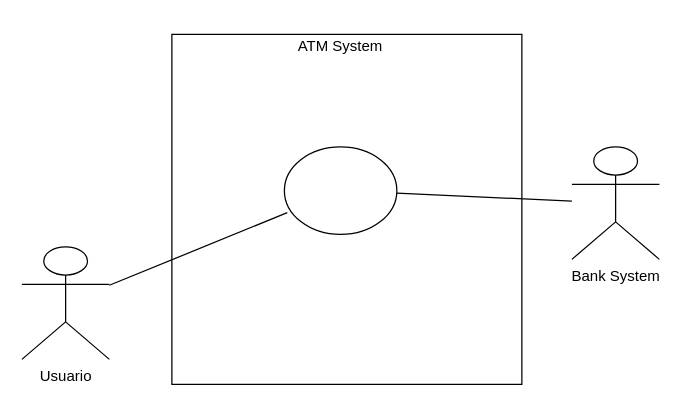
Some shapes in this 681 by 406 pixel diagram are drawn without their labels. Each missing label, with the box of its shape:
assd: (171, 33, 522, 384)
Consultar saldo: (283, 146, 397, 234)
